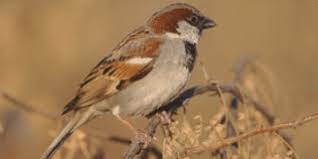hsparrow: (35, 1, 227, 159)
